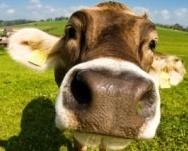muzzles: (55, 65, 161, 150)
